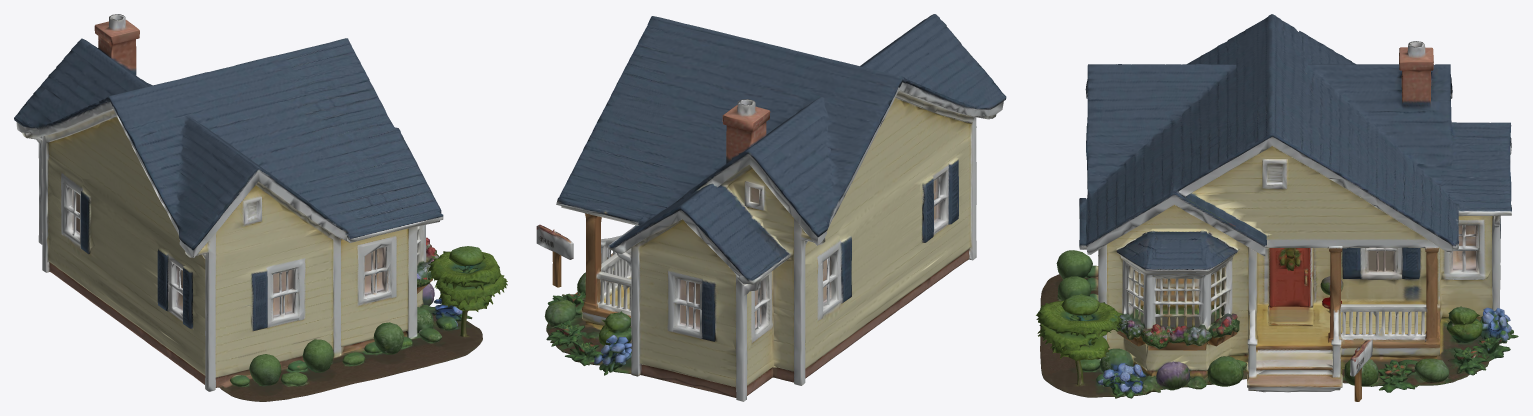
Rendered from house_1storyB_yellow.glb.
3 views of the same model, side by side, from view 1: azimuth 30°, elevation 25°; view 2: azimuth 150°, elevation 25°; view 3: azimuth 270°, elevation 25° (orthographic). The views are drawn at different scales.
Parts seen in each view (by area): view 1: tripo_node_c3ad3e70-0ab1-431a-b7f9-827c20f6ee13; view 2: tripo_node_c3ad3e70-0ab1-431a-b7f9-827c20f6ee13; view 3: tripo_node_c3ad3e70-0ab1-431a-b7f9-827c20f6ee13.
Part boxes in pixels (left/top/right/bottom): tripo_node_c3ad3e70-0ab1-431a-b7f9-827c20f6ee13: left=14, top=14, right=507, bottom=401; tripo_node_c3ad3e70-0ab1-431a-b7f9-827c20f6ee13: left=536, top=14, right=1006, bottom=401; tripo_node_c3ad3e70-0ab1-431a-b7f9-827c20f6ee13: left=1036, top=14, right=1518, bottom=401.
Bounding box in the file's own units: 0.7716 × 0.5783 × 1.
Materials: 1 (1 with a texture image).
